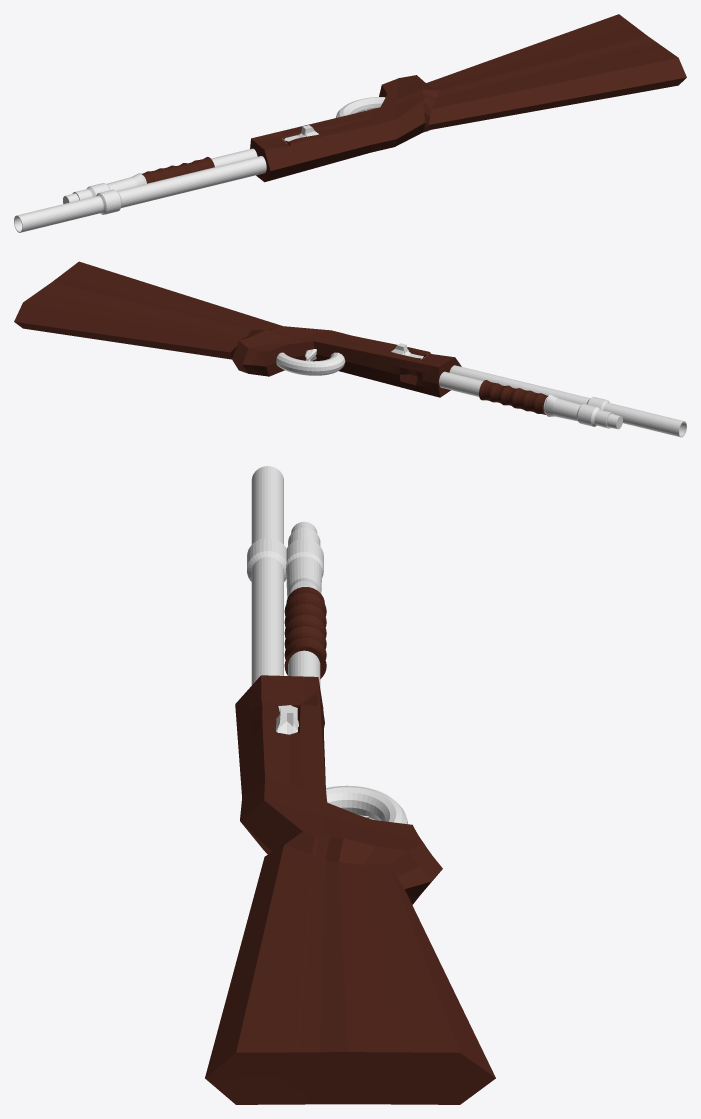
The model's file is дробовик.fbx.
The picture shows the model from 3 angles, top to bottom: view 1: azimuth 30°, elevation 25°; view 2: azimuth 150°, elevation 25°; view 3: azimuth 270°, elevation 25°; orthographic projection. The views are drawn at different scales.
Parts seen in each view (by area): view 1: Cube.001; view 2: Cube.001; view 3: Cube.001.
Part boxes in pixels (box(x1,y1,x2,y2)): Cube.001: box(14, 14, 686, 232); Cube.001: box(14, 261, 686, 437); Cube.001: box(205, 466, 495, 1104).
Size of the model in its own units: 2350 by 131 by 484.
